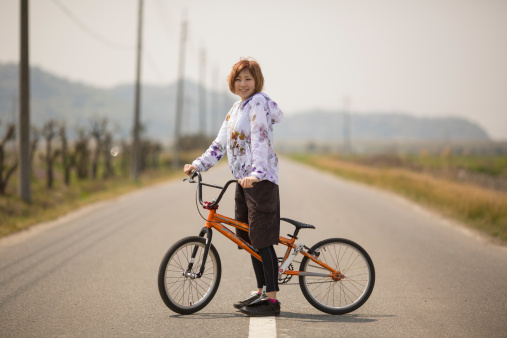em pe: (198, 48, 292, 306)
